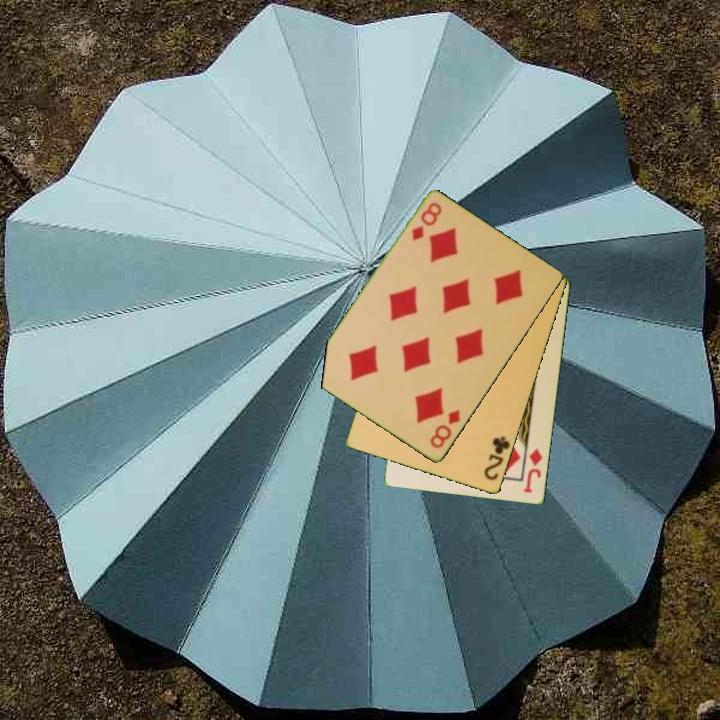2c: (481, 433, 513, 484)
8d: (426, 406, 463, 452), (408, 199, 445, 244)
Jd: (520, 445, 546, 496)
